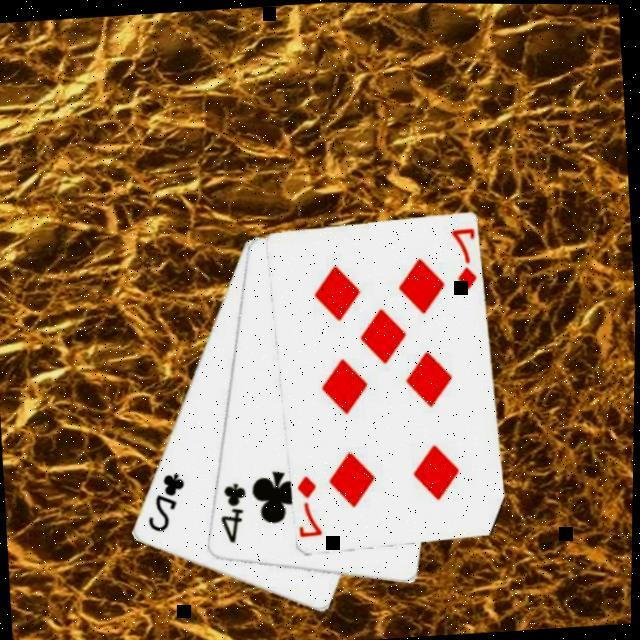2C: (141, 466, 191, 534)
4C: (214, 477, 252, 545)
7D: (292, 469, 326, 538), (445, 222, 479, 291)
